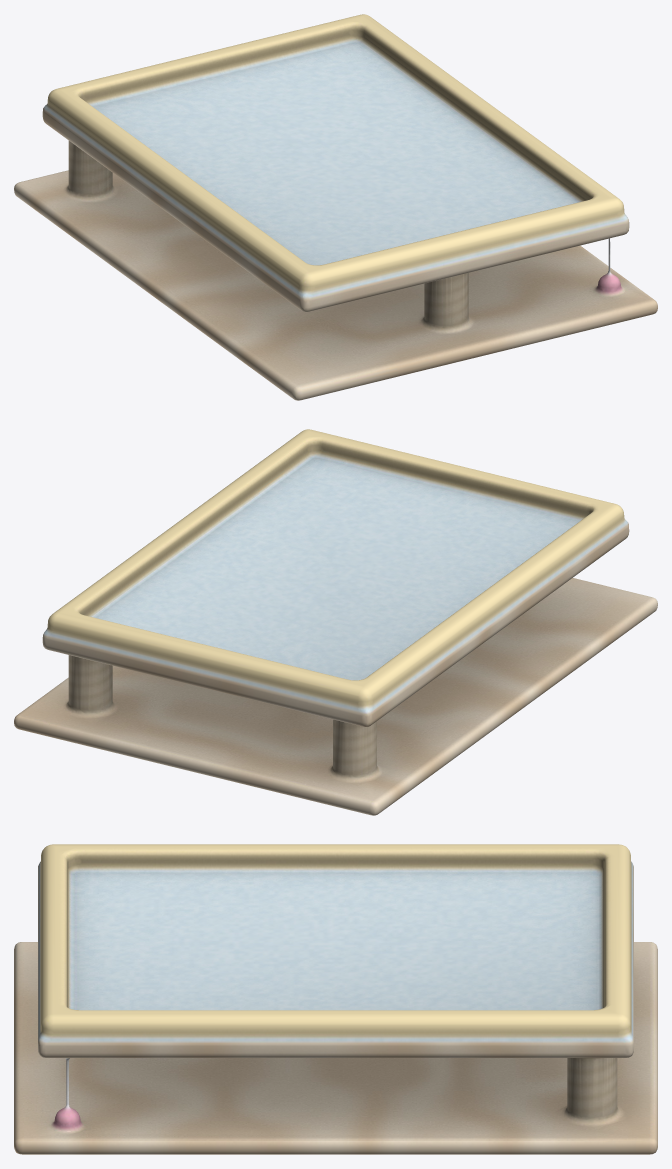
The model's file is cat_tower_1.fbx.
The picture shows the model from 3 angles, top to bottom: view 1: azimuth 30°, elevation 25°; view 2: azimuth 150°, elevation 25°; view 3: azimuth 270°, elevation 25°; orthographic projection. The views are drawn at different scales.
Parts seen in each view (by area): view 1: cat_tower_1.001; view 2: cat_tower_1.001; view 3: cat_tower_1.001.
Part boxes in pixels (x1,y1,x2,y2): cat_tower_1.001: (14, 14, 657, 400); cat_tower_1.001: (14, 429, 657, 815); cat_tower_1.001: (14, 844, 657, 1154).
Bounding box in the file's own units: 0.8 × 0.234 × 1.08.
Materials: 1 (1 with a texture image).
